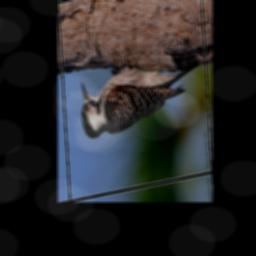Woodpecker: (75, 44, 207, 146)
